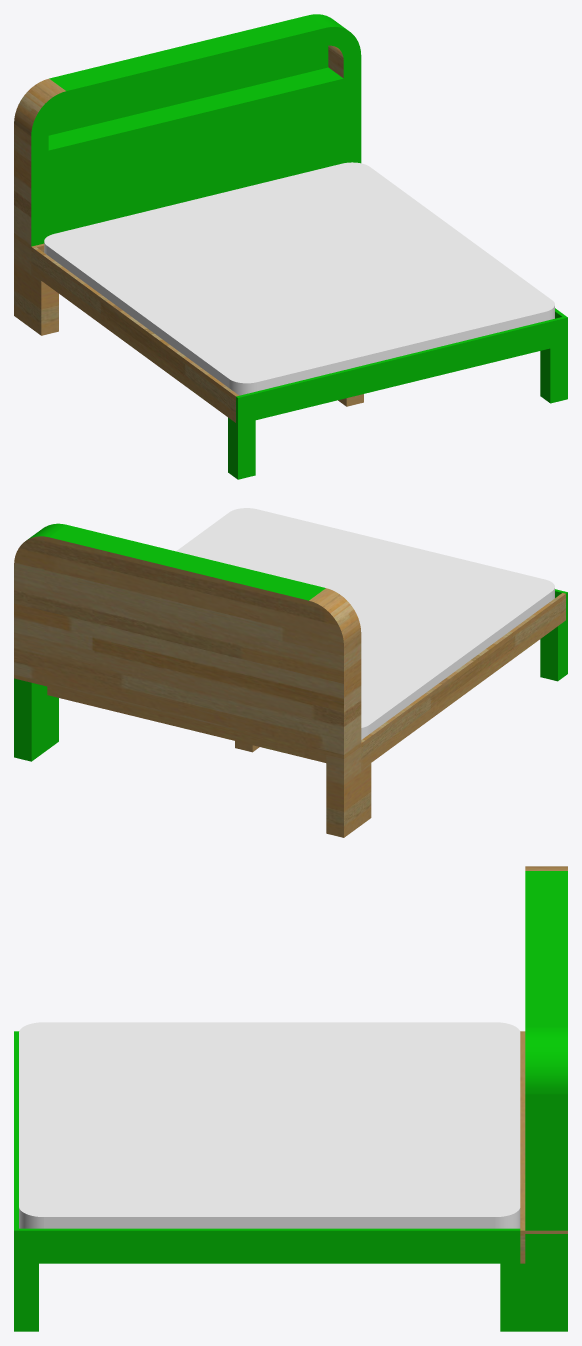
3 renders of one model, top to bottom at view 1: azimuth 30°, elevation 25°; view 2: azimuth 150°, elevation 25°; view 3: azimuth 270°, elevation 25°, orthographic. The views are drawn at different scales.
Parts seen in each view (by area): view 1: Root Node, 646601, 646600, 646606, 646598, 646627, 646607; view 2: Root Node, 646600, 646627, 646610, 646988, 646606, 646628, 646607, 646608; view 3: Root Node, 646602, 646610, 646608, 646598, 646599, 646601.
Boxes of the visible parts, bbox=[...] form: Root Node: bbox=[14, 14, 554, 395]; 646601: bbox=[236, 316, 567, 424]; 646600: bbox=[33, 247, 238, 422]; 646606: bbox=[228, 417, 255, 479]; 646598: bbox=[540, 344, 567, 403]; 646627: bbox=[14, 237, 31, 327]; 646607: bbox=[31, 273, 58, 335]; Root Node: bbox=[14, 508, 554, 755]; 646600: bbox=[361, 593, 565, 768]; 646627: bbox=[326, 746, 361, 837]; 646610: bbox=[14, 678, 48, 761]; 646988: bbox=[47, 686, 326, 762]; 646606: bbox=[540, 619, 567, 681]; 646628: bbox=[14, 675, 361, 758]; 646607: bbox=[361, 763, 371, 824]; 646608: bbox=[48, 695, 58, 748]; Root Node: bbox=[19, 866, 567, 1230]; 646602: bbox=[19, 1228, 520, 1263]; 646610: bbox=[525, 1234, 567, 1331]; 646608: bbox=[500, 1263, 525, 1331]; 646598: bbox=[14, 1263, 38, 1331]; 646599: bbox=[520, 1031, 525, 1263]; 646601: bbox=[14, 1031, 18, 1263].
Bounding box in the file's own units: 1.88 × 1.24 × 2.21.
424 materials, 281 textured.
